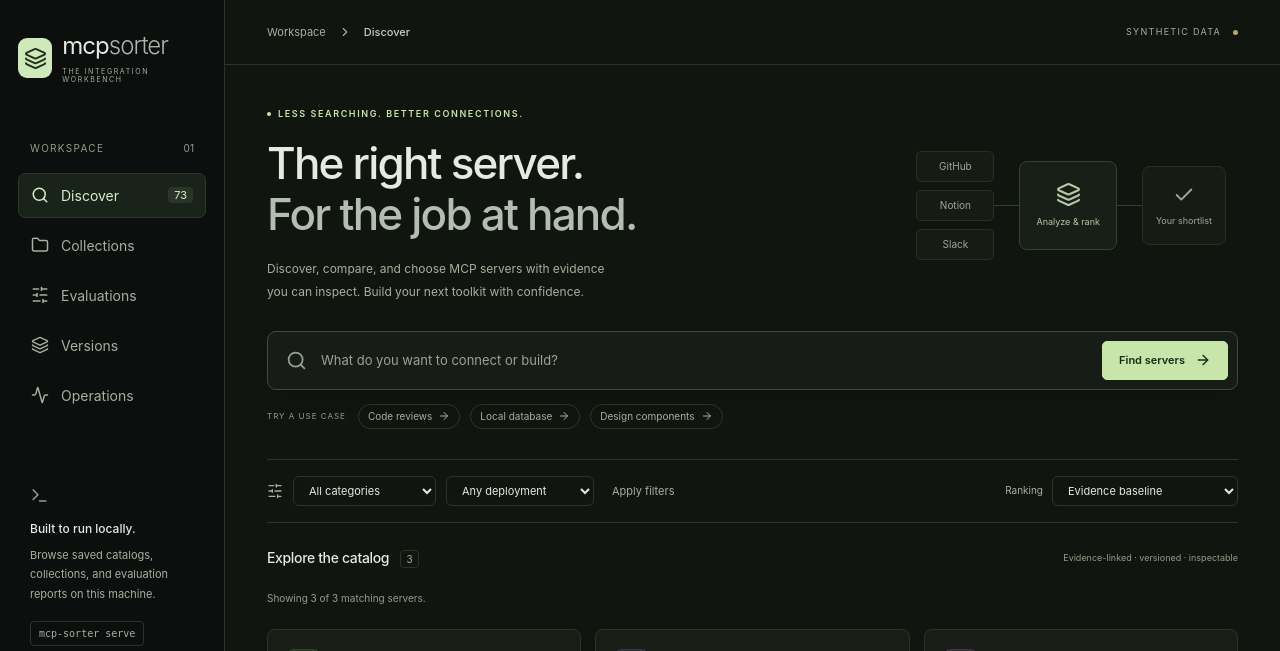
shows the failed evaluation scope and reason
Click the button "Evaluations": (112,295) [18,273,206,318]
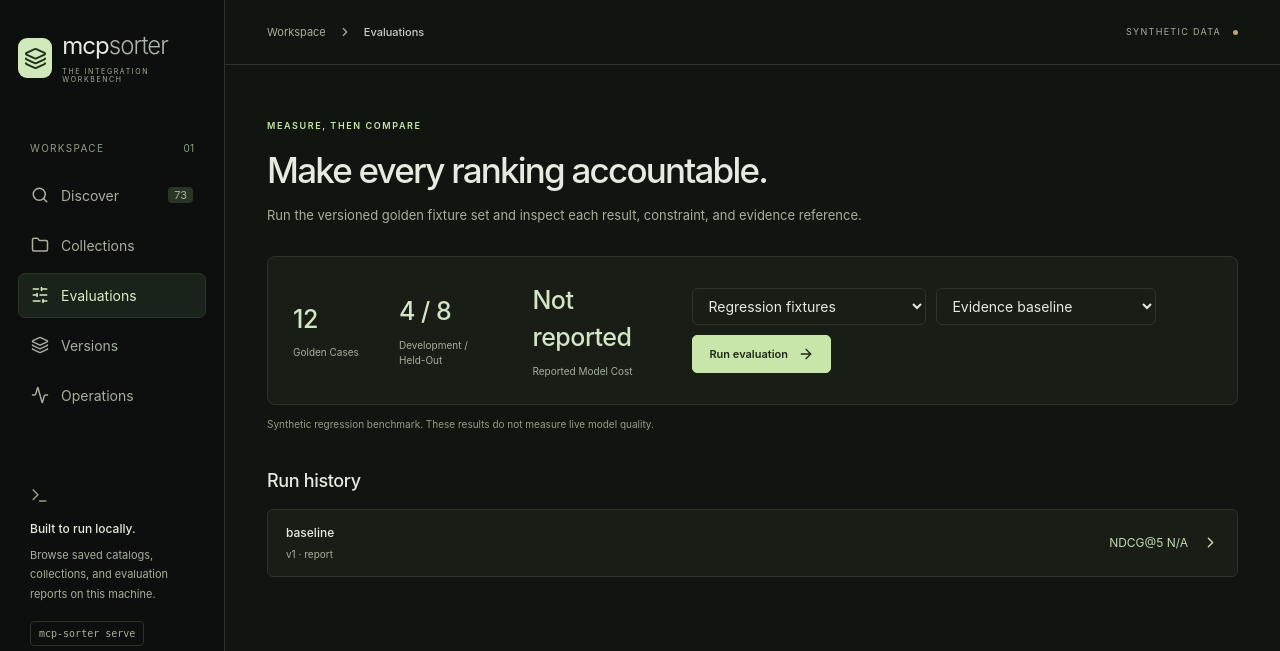
Click the button "baseline v1 · report NDCG@5 N/A": (310,532) [267,509,1238,577]
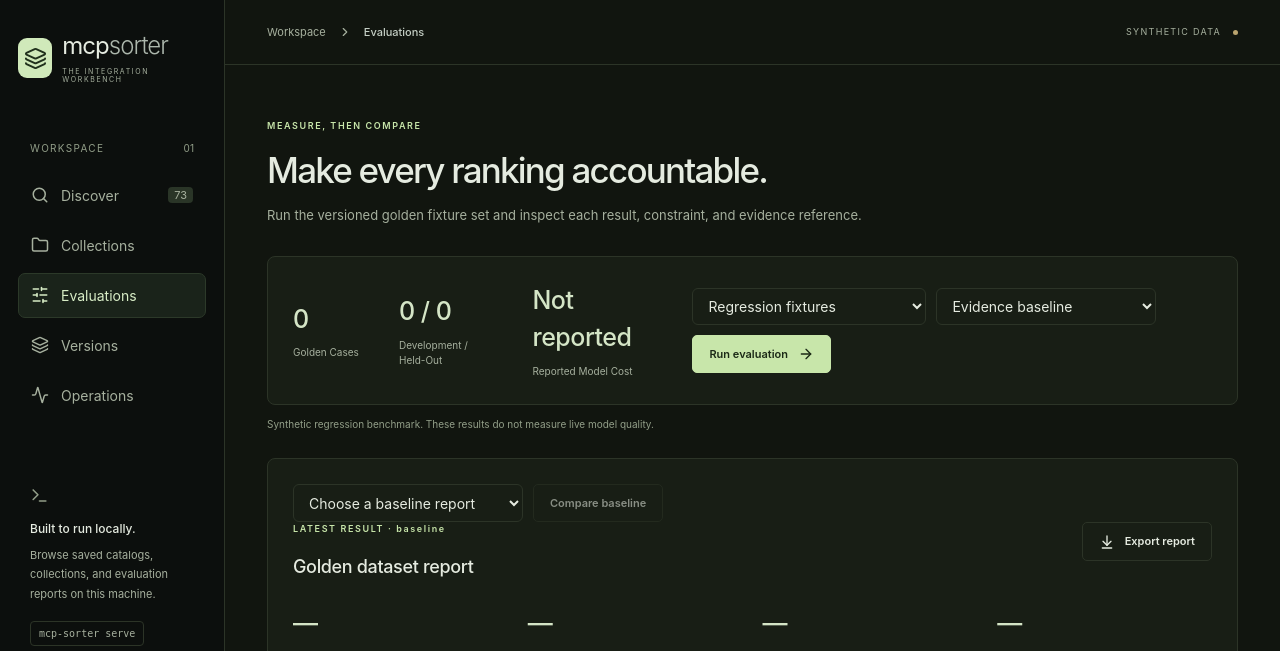
Select "baseline · report" in the dropdown named "Baseline evaluation": (408,503) [293,484,523,522]
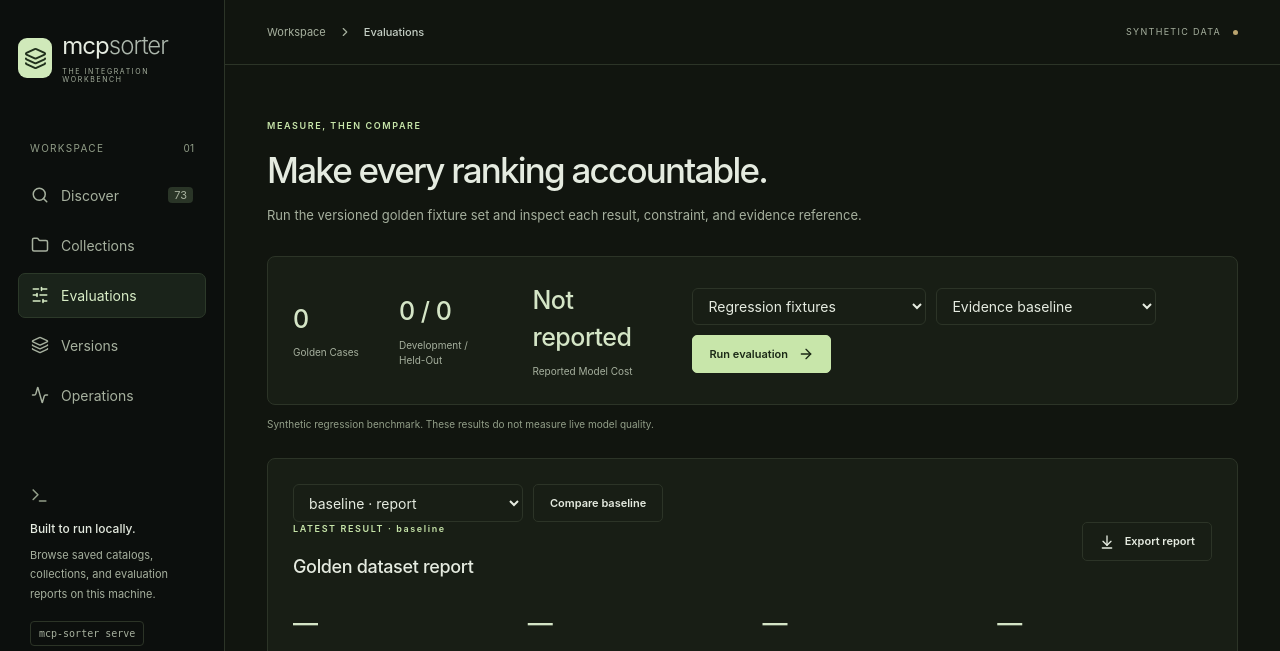
Click the button "Compare baseline": (598,503) [533,484,663,522]
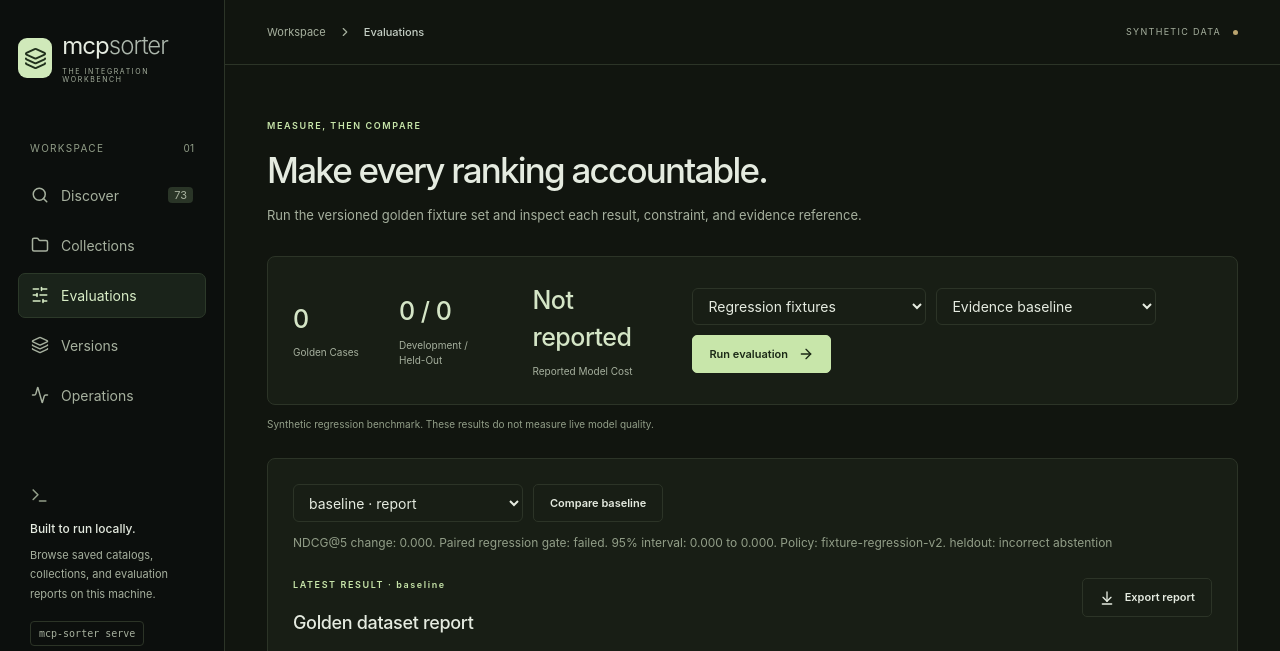
Check: the text "heldout: incorrect abstention" shows "Paired regression gate: failed", box [293,535,1112,550]
